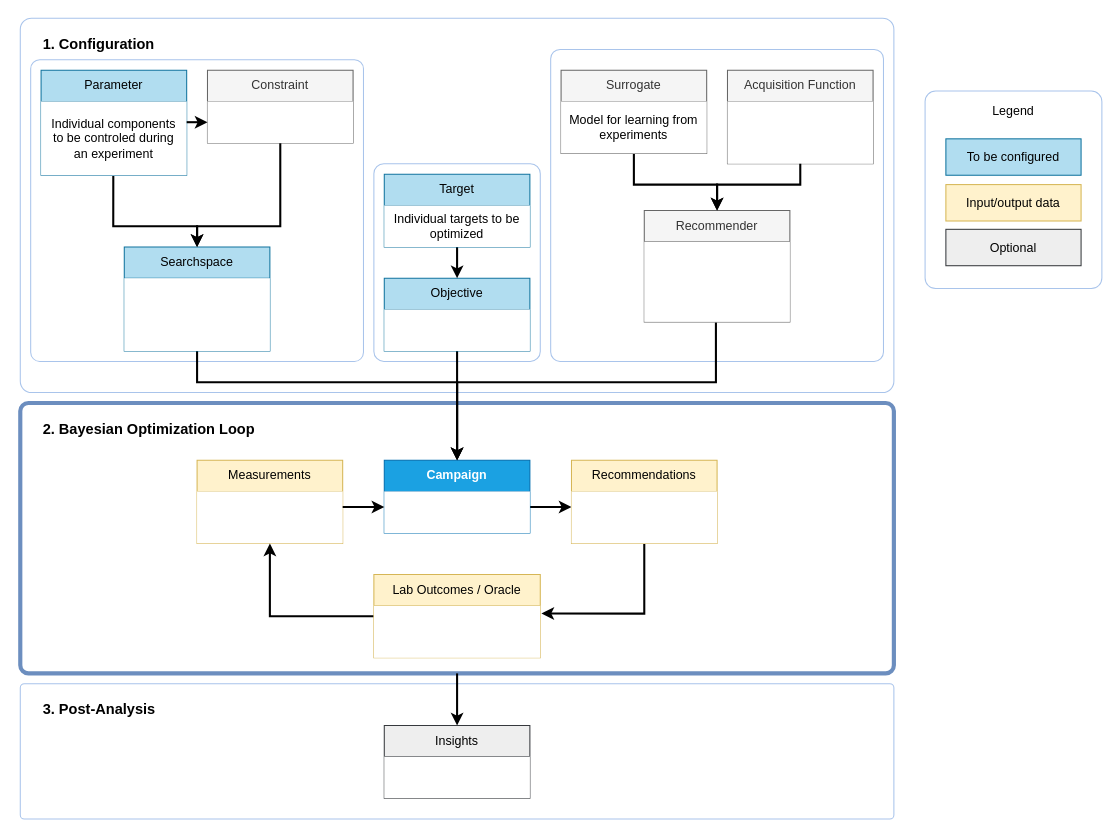
The diagram is 1120 pixels wide and 837 high, and some of its shapes have lost their labels. Here are the shapes that lost their labels. From the top down, the centre of each, then its label:
point 280,121: Restrict parameter configurations
point 800,132: Strategy for balancing exploration and exploitation
point 716,281: Mechanism for suggesting next experiments
point 196,314: All parameter configurations that can be suggested by the model
point 456,329: Combination of multiple targets
point 269,517: Pairs of recommendations and outcomes
point 456,511: Complete state of the project
point 644,517: Experiments to be conducted next
point 456,631: Measurements for recommendations
point 456,777: Analysis of experimental results
